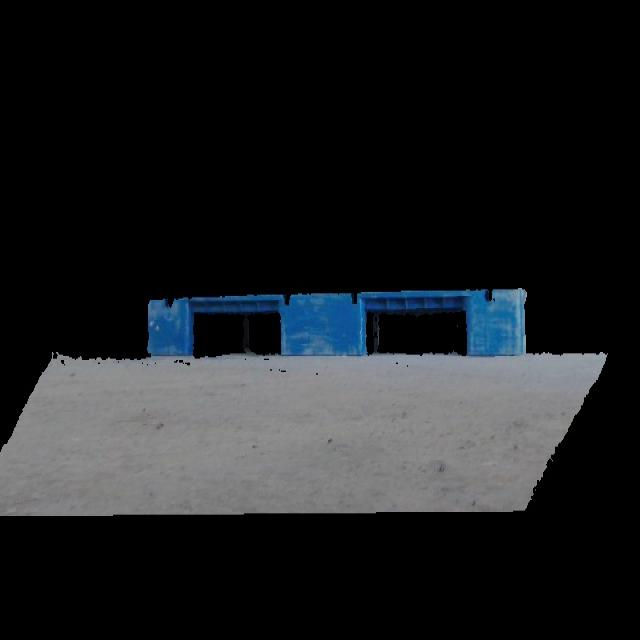block: (280, 292, 370, 358), (467, 288, 528, 360), (147, 296, 198, 360)
front: (146, 286, 527, 362)
